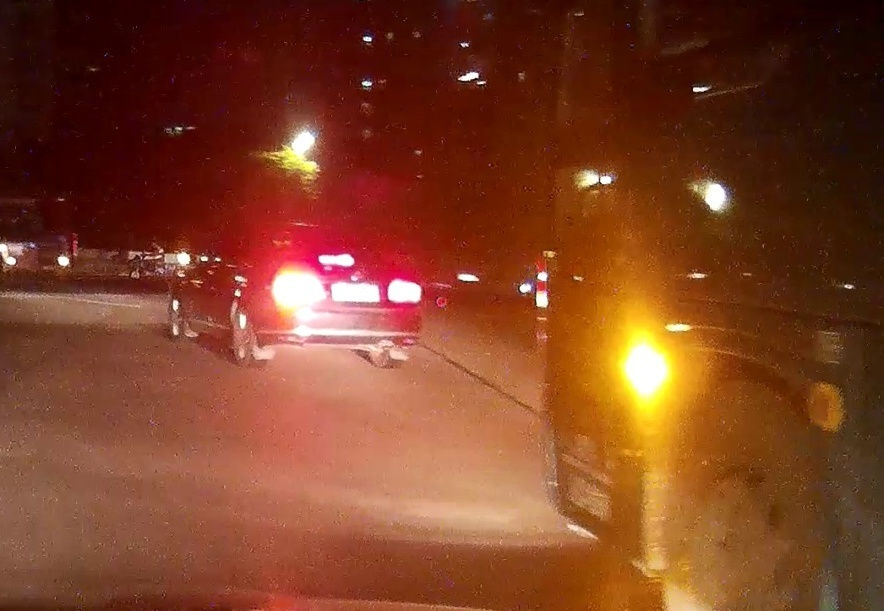L_light: (270, 266, 324, 314)
R_light: (387, 281, 422, 303)
T_light: (318, 254, 355, 265)
night-brake: (263, 224, 423, 368)
